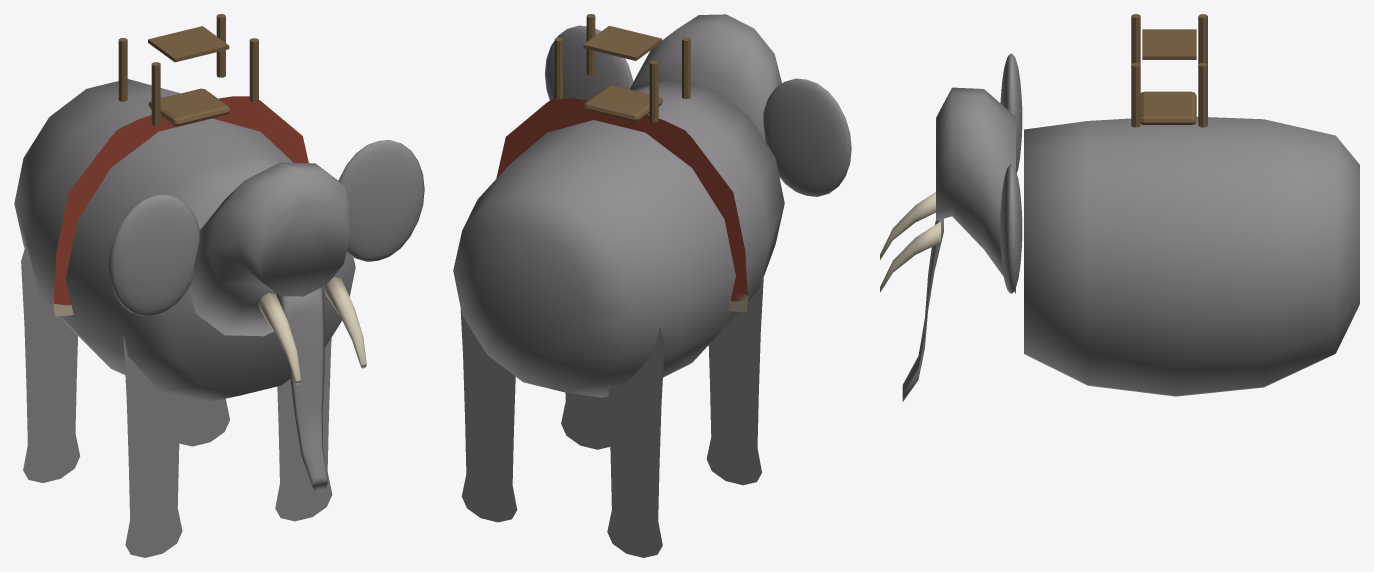
File: elephant.glb
3 views of the same model, side by side, from view 1: azimuth 30°, elevation 25°; view 2: azimuth 150°, elevation 25°; view 3: azimuth 270°, elevation 25° (orthographic). The views are drawn at different scales.
Parts seen in each view (by area): view 1: torso, head, legBL, legFL, earL, earR, caparison, trunk, legFR, legBR, howdah, howdah_rail (+6 smaller); view 2: torso, legBL, head, legBR, legFL, earL, caparison, earR, legFR, howdah, howdah_rail, howdah_post.003 (+3 smaller); view 3: torso, head, earR, howdah, howdah_rail, earL, trunk, tuskR, tuskL, howdah_post.001, howdah_post.003.
Part boxes in pixels (bbox=[...]): torso: bbox=[14, 79, 355, 402]; head: bbox=[188, 162, 352, 336]; legBL: bbox=[21, 245, 80, 482]; legFL: bbox=[123, 335, 182, 557]; earL: bbox=[108, 194, 199, 316]; earR: bbox=[338, 140, 424, 261]; caparison: bbox=[53, 96, 308, 305]; trunk: bbox=[276, 286, 327, 491]; legFR: bbox=[275, 338, 332, 521]; legBR: bbox=[179, 397, 229, 446]; howdah: bbox=[148, 88, 230, 126]; howdah_rail: bbox=[148, 26, 229, 62]; torso: bbox=[453, 78, 784, 397]; legBL: bbox=[607, 327, 664, 557]; head: bbox=[629, 14, 781, 141]; legBR: bbox=[460, 309, 517, 522]; legFL: bbox=[706, 269, 763, 485]; earL: bbox=[763, 78, 851, 196]; caparison: bbox=[496, 98, 747, 301]; earR: bbox=[544, 25, 633, 100]; legFR: bbox=[561, 392, 610, 449]; howdah: bbox=[583, 85, 662, 121]; howdah_rail: bbox=[583, 25, 661, 60]; howdah_post.003: bbox=[554, 37, 563, 99]; torso: bbox=[1024, 116, 1359, 396]; head: bbox=[936, 87, 1015, 293]; earR: bbox=[1000, 164, 1022, 293]; howdah: bbox=[1140, 91, 1196, 124]; howdah_rail: bbox=[1142, 29, 1196, 59]; earL: bbox=[1000, 53, 1022, 172]; trunk: bbox=[902, 218, 943, 401]; tuskR: bbox=[880, 221, 940, 292]; tuskL: bbox=[880, 192, 935, 260]; howdah_post.001: bbox=[1131, 62, 1140, 127]; howdah_post.003: bbox=[1198, 62, 1207, 127].
Size of the model in its own units: 2.32 by 3.28 by 3.
